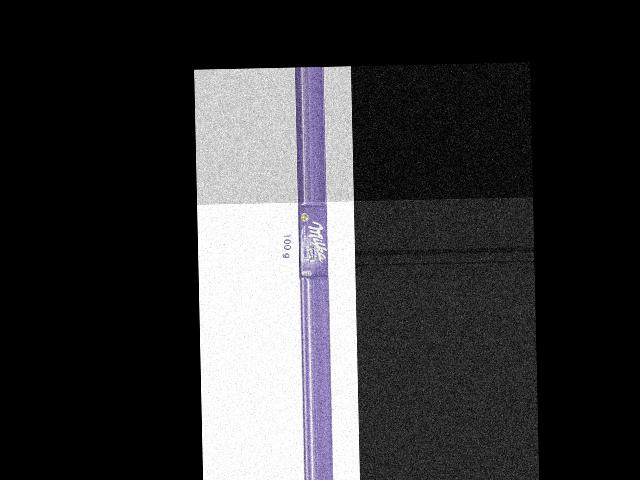chocolate: (292, 204, 329, 281)
